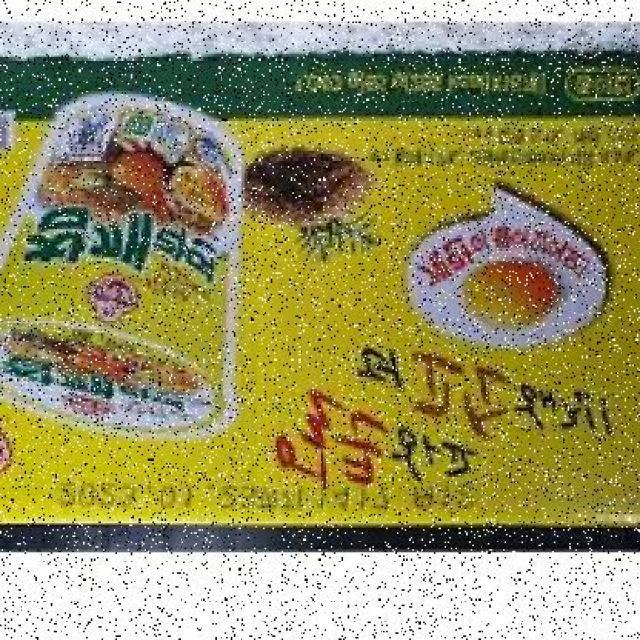Miscellaneous: (0, 108, 263, 437)
